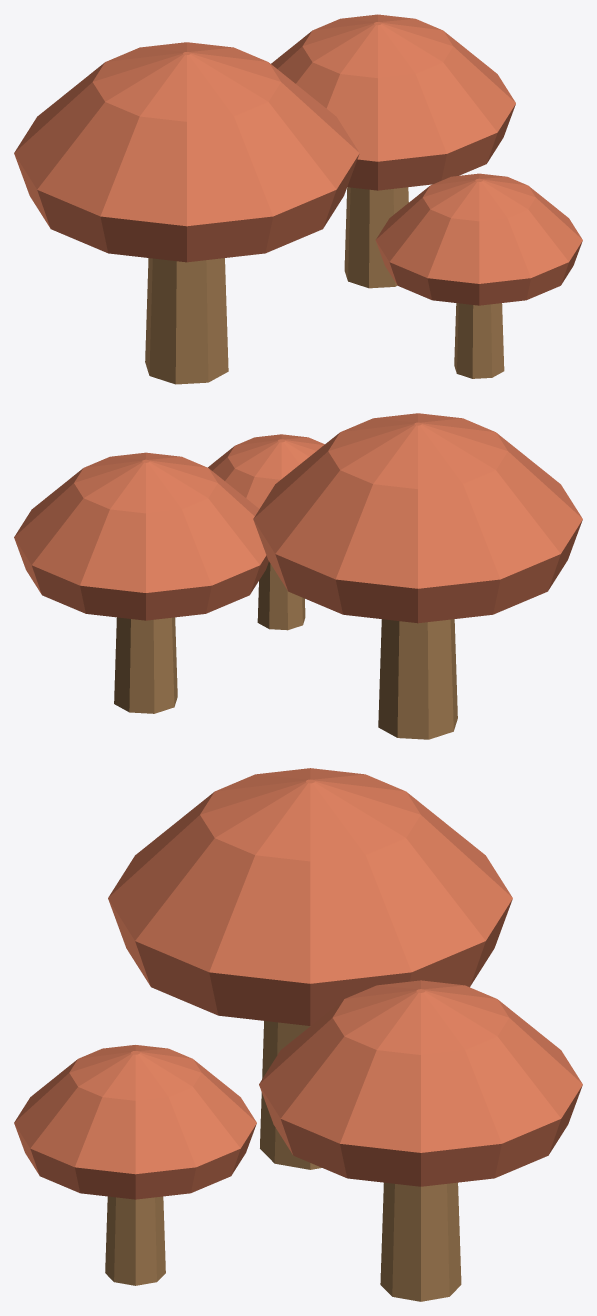
File: Mushrooms.fbx
The picture shows the model from 3 angles, top to bottom: view 1: azimuth 30°, elevation 25°; view 2: azimuth 150°, elevation 25°; view 3: azimuth 270°, elevation 25°; orthographic projection. The views are drawn at different scales.
Parts seen in each view (by area): view 1: Mushrooms.003; view 2: Mushrooms.003; view 3: Mushrooms.003.
Part boxes in pixels (<box>): Mushrooms.003: <box>14,14,582,384</box>; Mushrooms.003: <box>14,413,582,739</box>; Mushrooms.003: <box>14,768,582,1301</box>.
Size of the model in its own units: 0.746 by 0.44 by 0.618.
